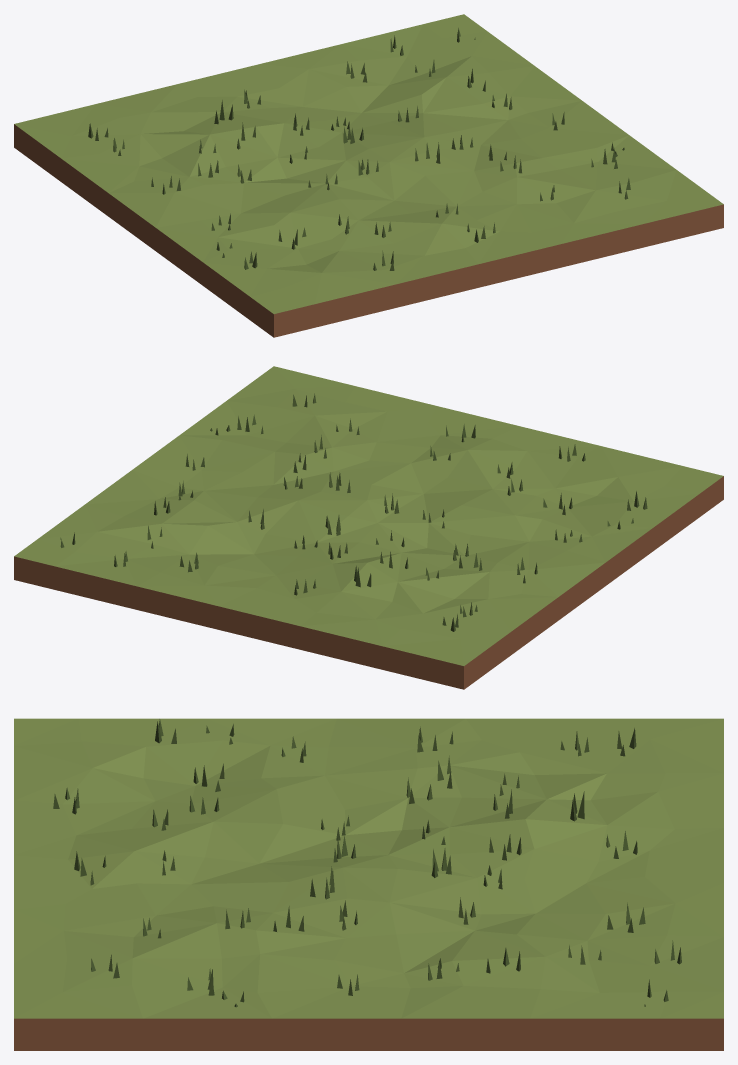
File: grass-tile-37e1a7.glb
3 renders of one model, top to bottom at view 1: azimuth 30°, elevation 25°; view 2: azimuth 150°, elevation 25°; view 3: azimuth 270°, elevation 25°, orthographic. The views are drawn at different scales.
Parts seen in each view (by area): view 1: grass-tile-mesh; view 2: grass-tile-mesh; view 3: grass-tile-mesh.
Part boxes in pixels (x1,y1,x2,y2): grass-tile-mesh: (14, 14, 723, 337); grass-tile-mesh: (14, 366, 723, 689); grass-tile-mesh: (14, 718, 723, 1050).
Size of the model in its own units: 1 by 0.1006 by 1.
